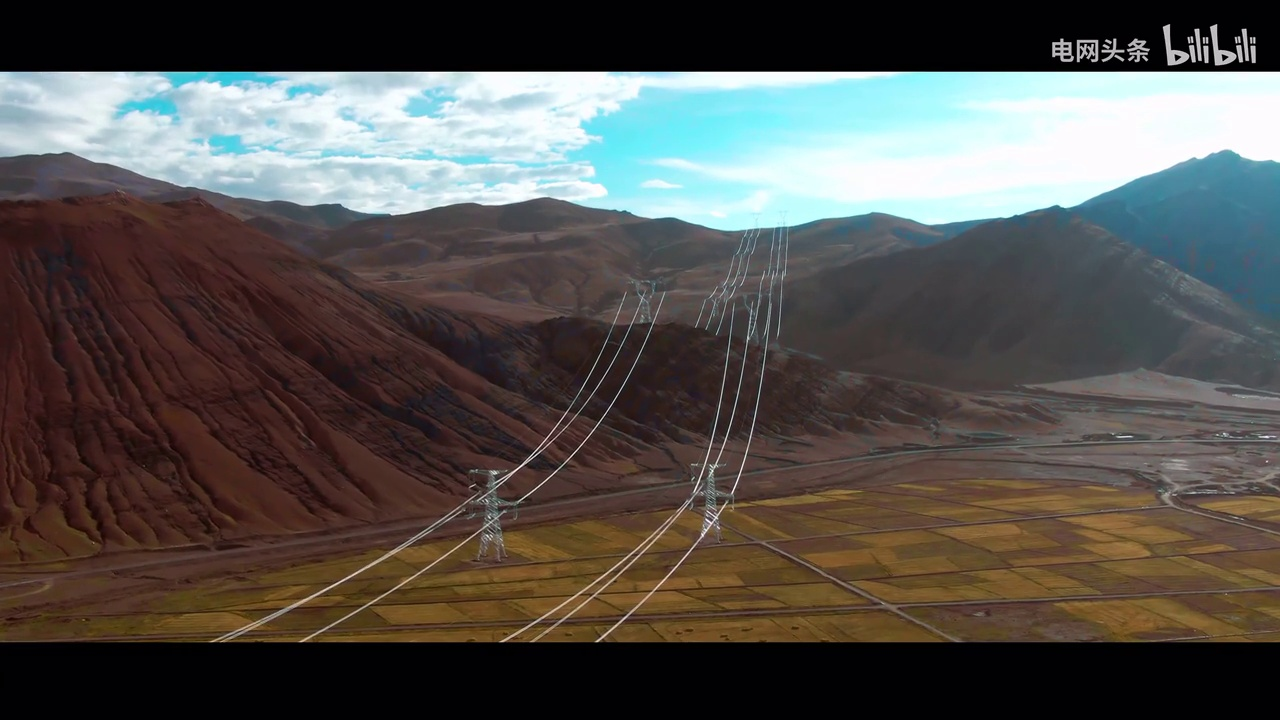tower_body: (460, 461, 525, 566), (684, 458, 739, 544), (625, 270, 662, 326)
